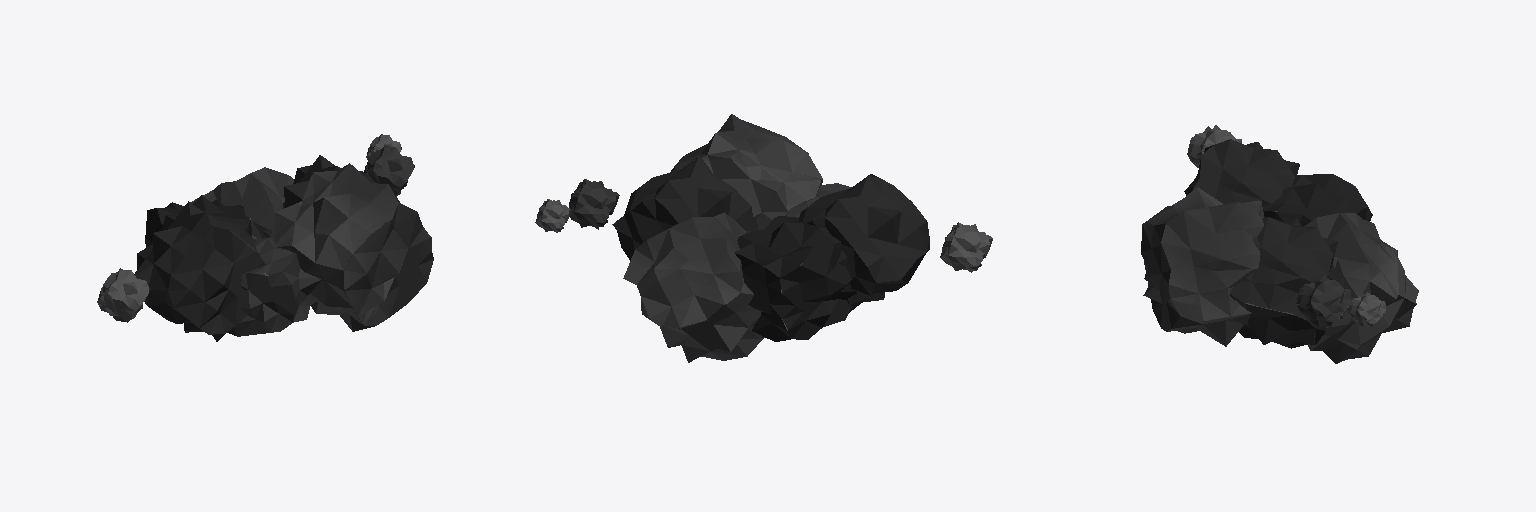
3 views of the same model, side by side, from view 1: azimuth 30°, elevation 25°; view 2: azimuth 150°, elevation 25°; view 3: azimuth 270°, elevation 25° (orthographic).
Visible parts, largest first — view 1: 立方体.004, 立方体.009, 立方体.003, 立方体, 立方体.002_立方体.012, 立方体.001_立方体.011, 立方体.005, 立方体.006_立方体.013; view 2: 立方体, 立方体.005, 立方体.009, 立方体.004, 立方体.006_立方体.013, 立方体.002_立方体.012, 立方体.001_立方体.011, 立方体.007_立方体.014; view 3: 立方体.004, 立方体.006_立方体.013, 立方体, 立方体.009, 立方体.005, 立方体.001_立方体.011, 立方体.007_立方体.014, 立方体.002_立方体.012.
Boxes of the visible parts, box(x1,y1,x2,y2) form: 立方体.004: box(271, 163, 433, 331); 立方体.009: box(134, 201, 265, 341); 立方体.003: box(227, 237, 320, 336); 立方体: box(190, 167, 293, 238); 立方体.002_立方体.012: box(97, 268, 150, 322); 立方体.001_立方体.011: box(364, 145, 414, 196); 立方体.005: box(145, 195, 251, 247); 立方体.006_立方体.013: box(263, 155, 375, 237); 立方体: box(623, 212, 764, 362); 立方体.005: box(735, 216, 856, 341); 立方体.009: box(799, 174, 929, 312); 立方体.004: box(671, 114, 822, 229); 立方体.006_立方体.013: box(612, 157, 757, 260); 立方体.002_立方体.012: box(940, 222, 992, 272); 立方体.001_立方体.011: box(569, 179, 619, 229); 立方体.007_立方体.014: box(535, 199, 571, 232); 立方体.004: box(1141, 187, 1263, 346); 立方体.006_立方体.013: box(1230, 217, 1338, 348); 立方体: box(1304, 213, 1418, 363); 立方体.009: box(1184, 139, 1299, 205); 立方体.005: box(1262, 174, 1372, 226); 立方体.001_立方体.011: box(1296, 275, 1351, 327); 立方体.007_立方体.014: box(1348, 292, 1385, 327); 立方体.002_立方体.012: box(1187, 125, 1241, 167).
Size of the model in its own units: 1.93 by 0.8871 by 1.24.
1 materials, 1 textured.